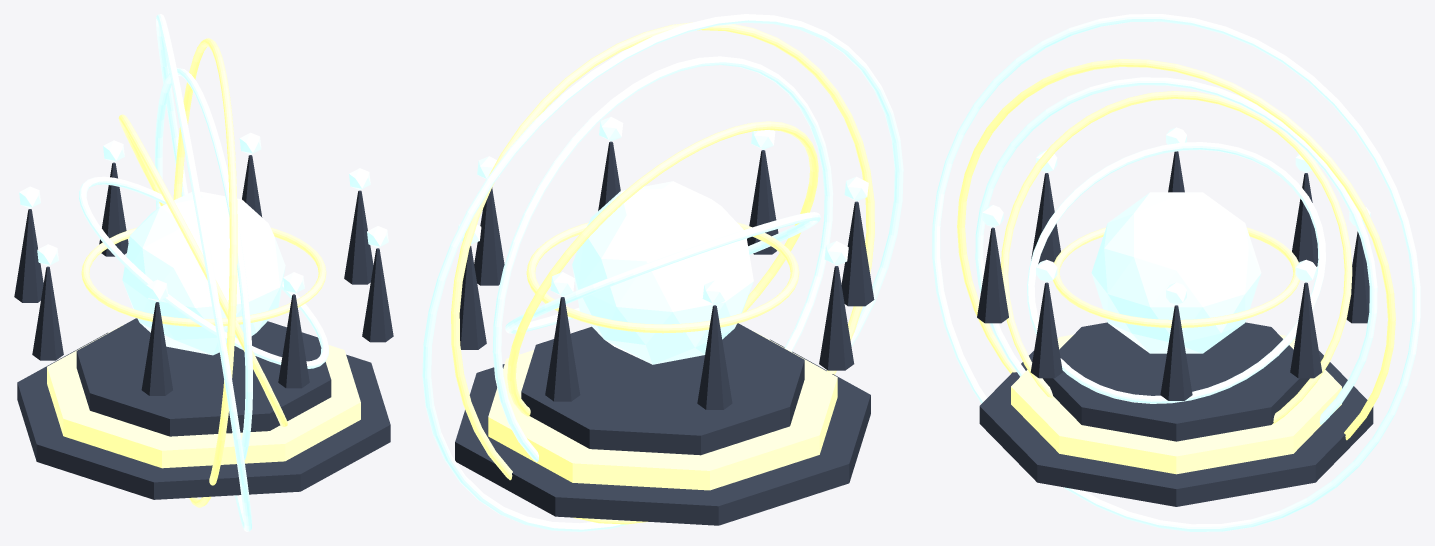
The model's file is gpu-blender-v50.glb.
The picture shows the model from 3 angles, left to right: view 1: azimuth 30°, elevation 25°; view 2: azimuth 150°, elevation 25°; view 3: azimuth 270°, elevation 25°; orthographic projection. The views are drawn at different scales.
Parts seen in each view (by area): view 1: Cylinder.002, Cylinder, SovereignCore_zothos-lite, Cylinder.001, Torus.005, Torus.004, Torus.003, Torus.001, Torus, Torus.002, Cone.007, Cone.006 (+6 smaller); view 2: Cylinder.002, SovereignCore_zothos-lite, Cylinder, Cylinder.001, Torus.005, Torus.004, Torus.003, Torus.002, Torus.001, Torus, Cone.004, Cone.002 (+6 smaller); view 3: SovereignCore_zothos-lite, Cylinder.002, Cylinder, Cylinder.001, Torus.005, Torus.004, Torus.003, Torus.002, Torus.001, Torus, Cone.001, Cone.007 (+5 smaller).
Boxes of the visible parts, left/top/right/bottom form: Cylinder.002: left=76, top=318, right=331, bottom=436; Cylinder: left=17, top=332, right=390, bottom=499; SovereignCore_zothos-lite: left=122, top=191, right=285, bottom=355; Cylinder.001: left=47, top=325, right=360, bottom=468; Torus.005: left=156, top=14, right=251, bottom=531; Torus.004: left=173, top=38, right=237, bottom=507; Torus.003: left=155, top=68, right=252, bottom=459; Torus.001: left=79, top=176, right=328, bottom=368; Torus: left=81, top=227, right=326, bottom=326; Torus.002: left=118, top=114, right=287, bottom=426; Cone.007: left=362, top=248, right=393, bottom=342; Cone.006: left=278, top=294, right=309, bottom=388; Cylinder.002: left=521, top=323, right=804, bottom=455; SovereignCore_zothos-lite: left=572, top=181, right=753, bottom=364; Cylinder: left=455, top=339, right=870, bottom=525; Cylinder.001: left=488, top=330, right=837, bottom=490; Torus.005: left=422, top=14, right=903, bottom=531; Torus.004: left=451, top=22, right=874, bottom=524; Torus.003: left=492, top=56, right=833, bottom=461; Torus.002: left=507, top=121, right=818, bottom=416; Torus.001: left=505, top=212, right=820, bottom=333; Torus: left=526, top=222, right=799, bottom=333; Cone.004: left=819, top=266, right=854, bottom=370; Cone.002: left=545, top=297, right=580, bottom=401; SovereignCore_zothos-lite: left=1091, top=192, right=1261, bottom=353; Cylinder.002: left=1043, top=322, right=1309, bottom=441; Cylinder: left=979, top=351, right=1373, bottom=506; Cylinder.001: left=1011, top=334, right=1341, bottom=474; Torus.005: left=932, top=14, right=1420, bottom=531; Torus.004: left=957, top=59, right=1395, bottom=440; Torus.003: left=975, top=77, right=1377, bottom=424; Torus.002: left=1001, top=91, right=1352, bottom=423; Torus.001: left=1027, top=142, right=1325, bottom=403; Torus: left=1053, top=227, right=1299, bottom=327; Cone.001: left=1290, top=282, right=1322, bottom=378; Cone.007: left=1030, top=282, right=1062, bottom=378.
Bounding box in the file's own units: 4.41 × 5.93 × 5.46.
